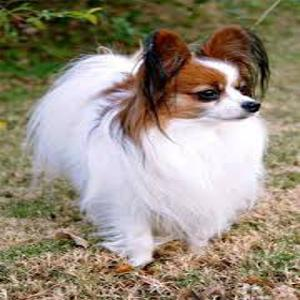yell: (22, 25, 270, 267)
